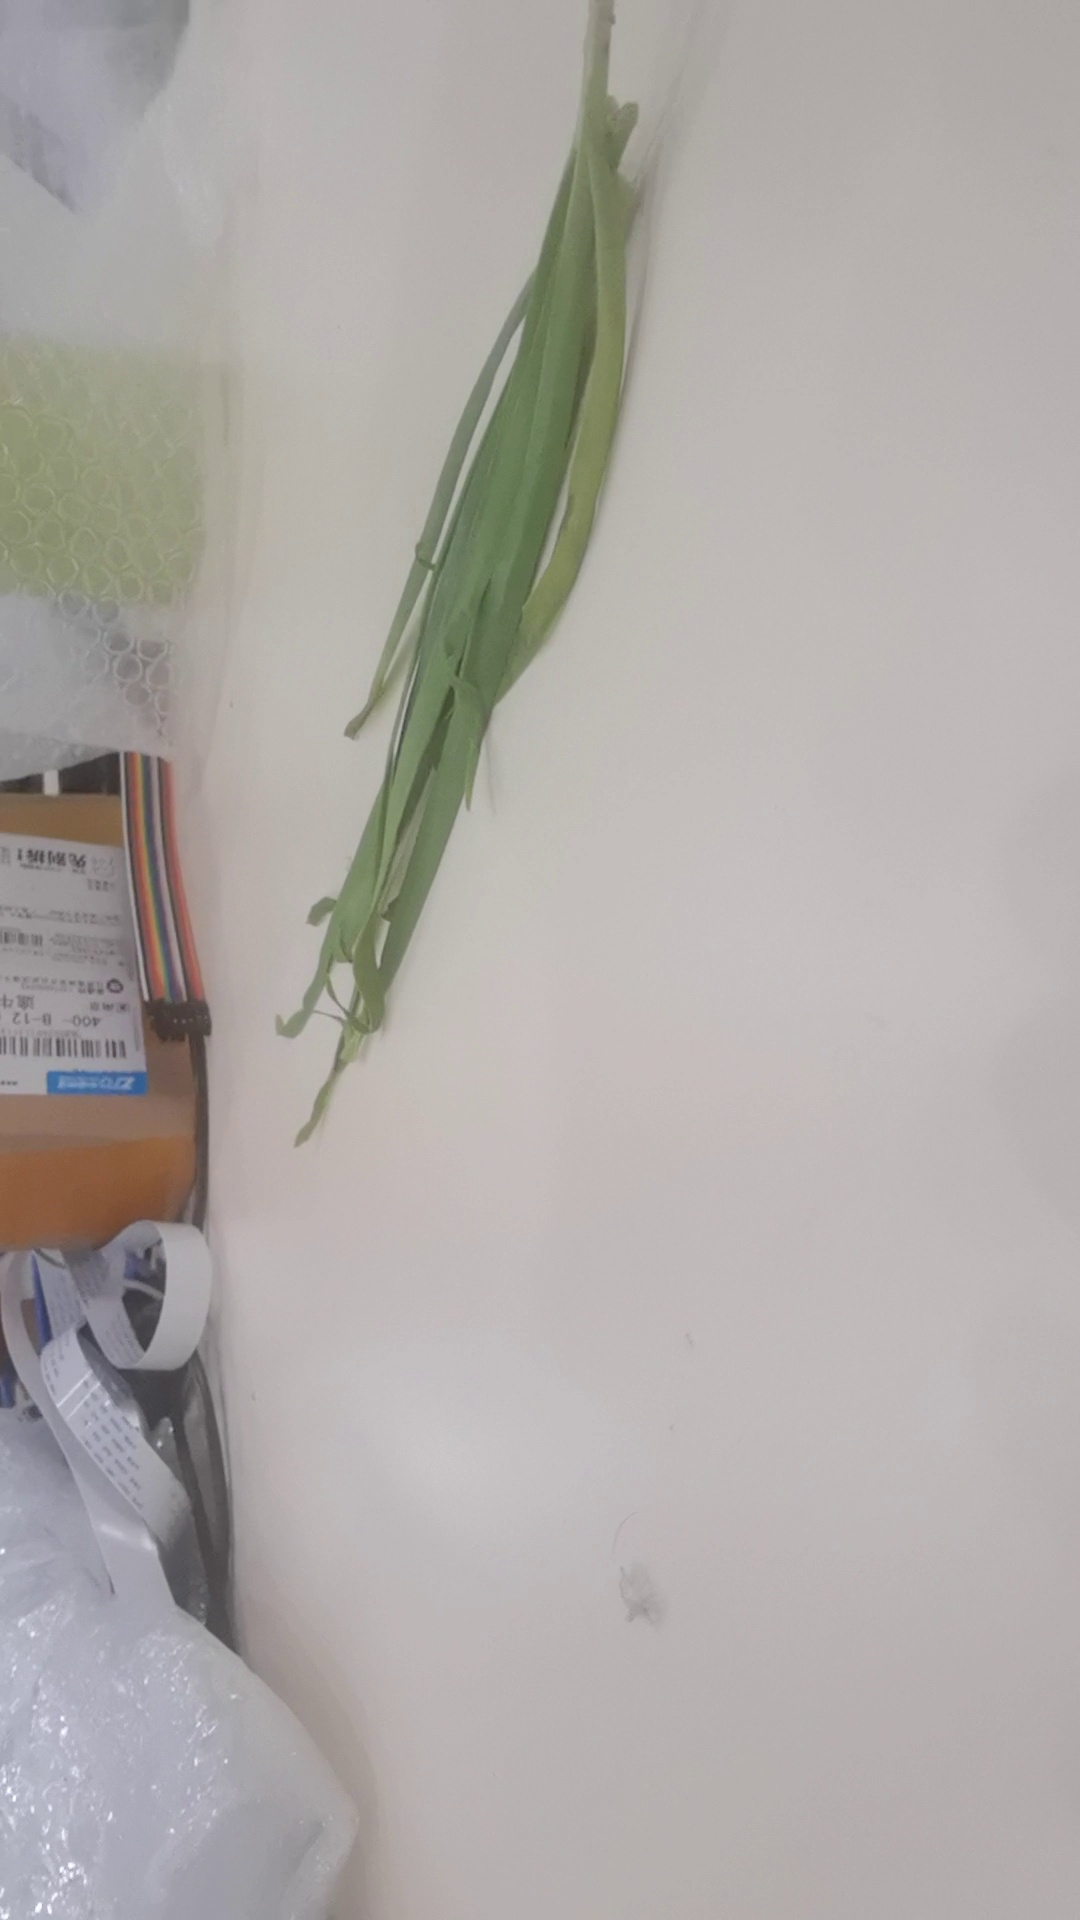chives: (261, 96, 655, 1156)
